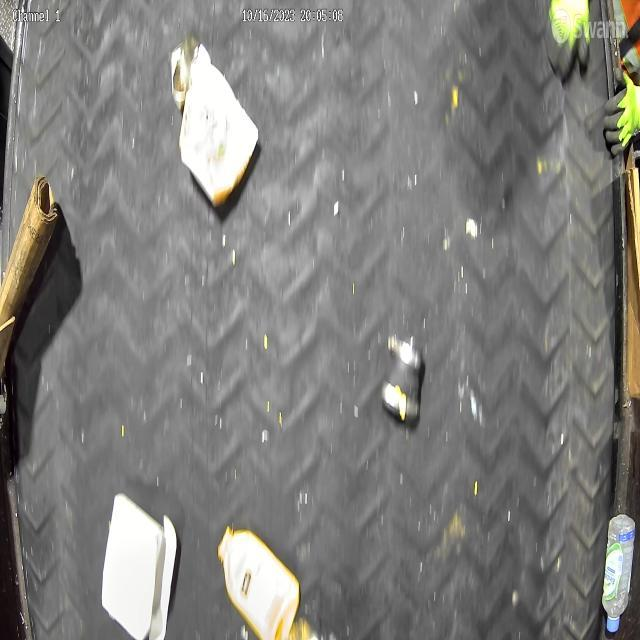can: (170, 34, 200, 112)
non_white_jug: (218, 525, 300, 640)
plastic_bottle: (600, 512, 636, 634)
